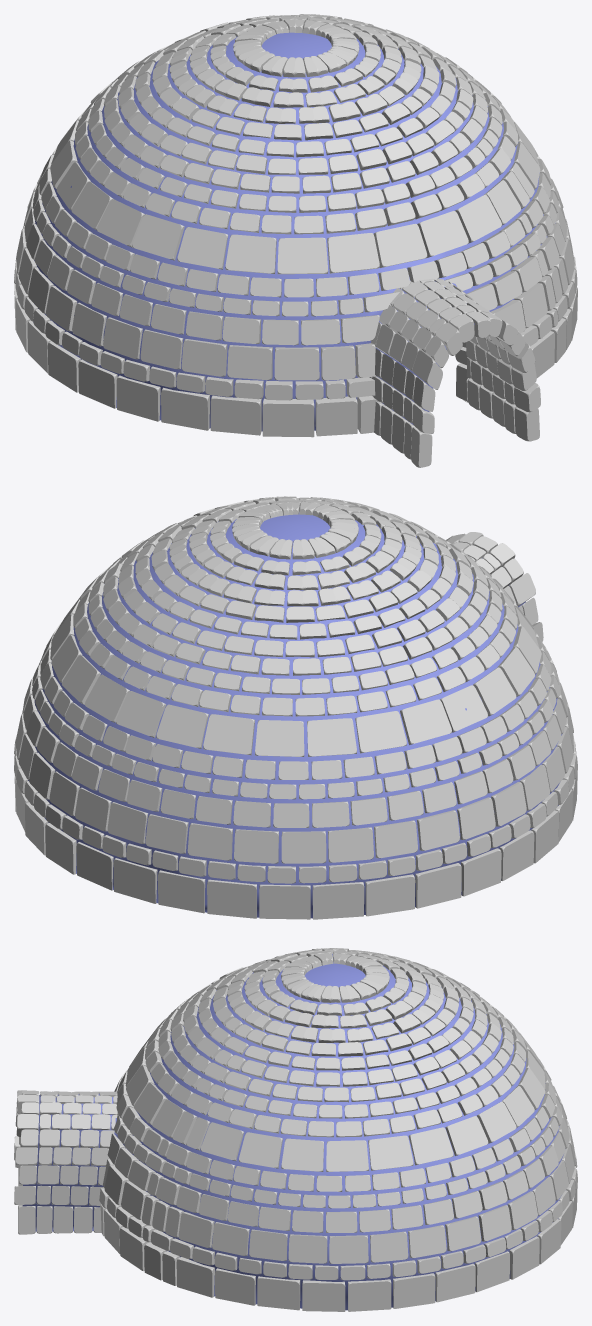
The model's file is NewIgloo.fbx.
The picture shows the model from 3 angles, top to bottom: view 1: azimuth 30°, elevation 25°; view 2: azimuth 150°, elevation 25°; view 3: azimuth 270°, elevation 25°; orthographic projection. The views are drawn at different scales.
Visible parts, largest first — view 1: Igloo; view 2: Igloo; view 3: Igloo.
Boxes of the visible parts, <box> form: Igloo: <box>14,14,577,467</box>; Igloo: <box>14,496,577,919</box>; Igloo: <box>14,948,577,1311</box>.
Bounding box in the file's own units: 803 × 435 × 935.
